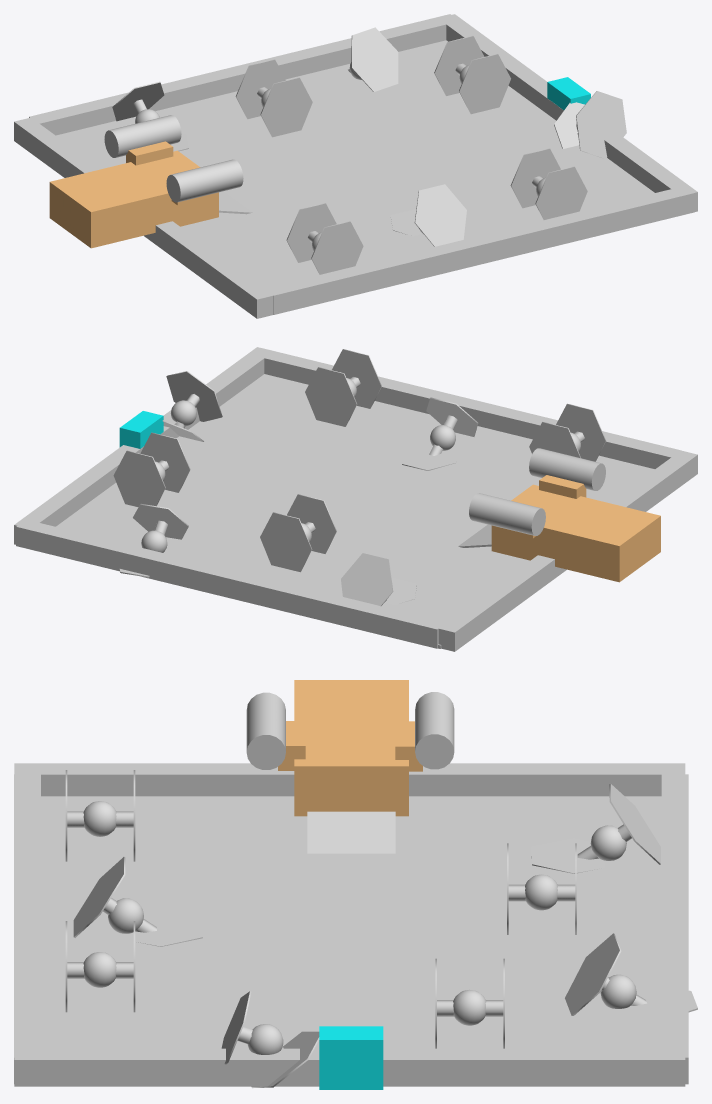
Rendered from Level2_bInit.fbx.
The picture shows the model from 3 angles, top to bottom: view 1: azimuth 30°, elevation 25°; view 2: azimuth 150°, elevation 25°; view 3: azimuth 270°, elevation 25°; orthographic projection. The views are drawn at different scales.
Parts seen in each view (by area): view 1: Box101, Box103, Box093, Box102, Box105, Box104, Cylinder002, Cylinder020, Cylinder011, Cylinder006, Cylinder012, Cylinder025 (+7 smaller); view 2: Box101, Box102, Box093, Box103, Box105, Box104, Cylinder002, Cylinder011, Cylinder020, Cylinder006, Cylinder009, Cylinder016 (+9 smaller); view 3: Box101, Box104, Box105, Box093, Box102, Box103, Cylinder002, Box097, Box096, Cylinder021, Cylinder006, Cylinder011 (+12 smaller).
Boxes of the visible parts, box(x1,y1,x2,y2) form: Box101: box(56, 40, 654, 288); Box103: box(264, 186, 694, 314); Box093: box(49, 141, 218, 248); Box102: box(29, 14, 459, 135); Box105: box(14, 117, 273, 318); Box104: box(441, 14, 697, 211); Cylinder002: box(104, 115, 243, 202); Cylinder020: box(235, 59, 312, 137); Cylinder011: box(510, 148, 587, 219); Cylinder006: box(286, 203, 363, 274); Cylinder012: box(414, 184, 466, 246); Cylinder025: box(576, 91, 626, 158); Box101: box(56, 374, 654, 648); Box102: box(16, 521, 446, 648); Box093: box(491, 475, 660, 582); Box103: box(251, 348, 681, 468); Box105: box(438, 450, 697, 651); Box104: box(14, 347, 273, 544); Cylinder002: box(469, 448, 605, 535); Cylinder011: box(305, 349, 381, 426); Cylinder020: box(260, 494, 336, 572); Cylinder006: box(529, 403, 605, 461); Cylinder009: box(113, 450, 165, 507); Cylinder016: box(341, 553, 393, 605); Box101: box(41, 796, 661, 1048); Box104: box(14, 1048, 685, 1086); Box105: box(14, 763, 685, 796); Box093: box(278, 680, 422, 816); Box102: box(661, 774, 688, 1084); Box103: box(14, 774, 40, 1083); Cylinder002: box(246, 692, 454, 769); Box097: box(319, 1026, 383, 1089); Box096: box(307, 811, 395, 853); Cylinder021: box(565, 933, 621, 1015); Cylinder006: box(65, 770, 135, 861); Cylinder011: box(65, 921, 135, 1012).
Size of the model in its own units: 296 by 46.65 by 248.
